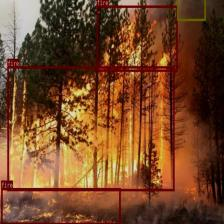fire: (7, 66, 174, 191), (97, 5, 178, 71), (1, 187, 120, 224)
smoke: (176, 0, 205, 20)
